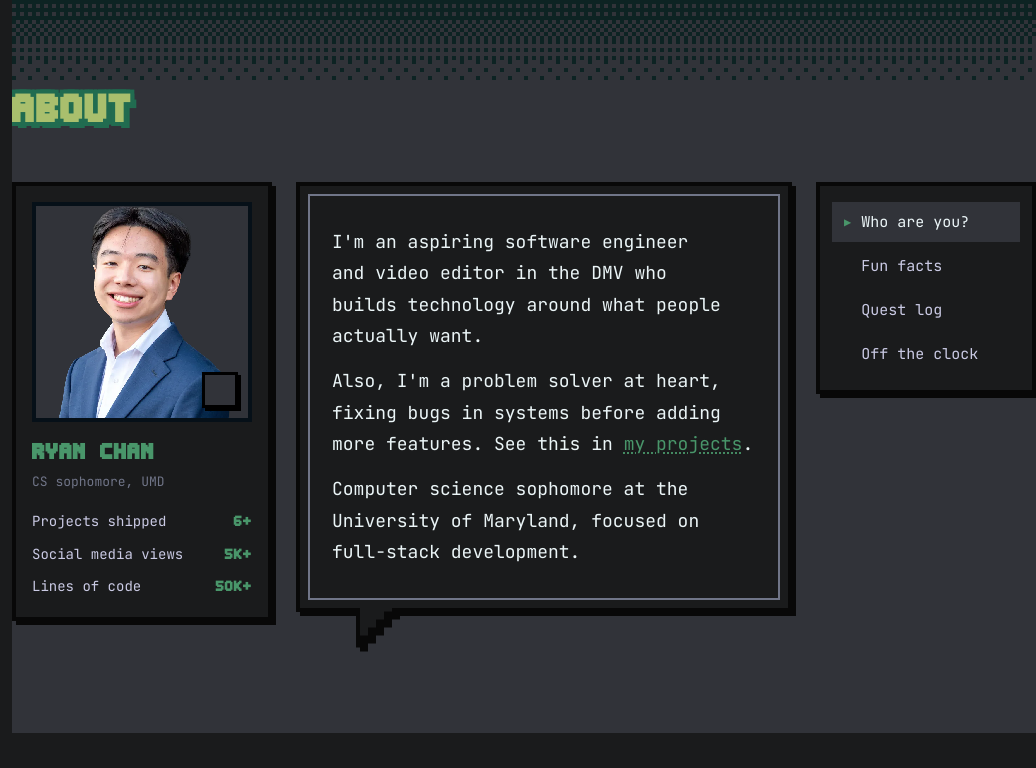
it: About fun facts › opens one popover at a time
Click the button "Fun facts" at (926, 266), box left=832, top=246, right=1020, bottom=286
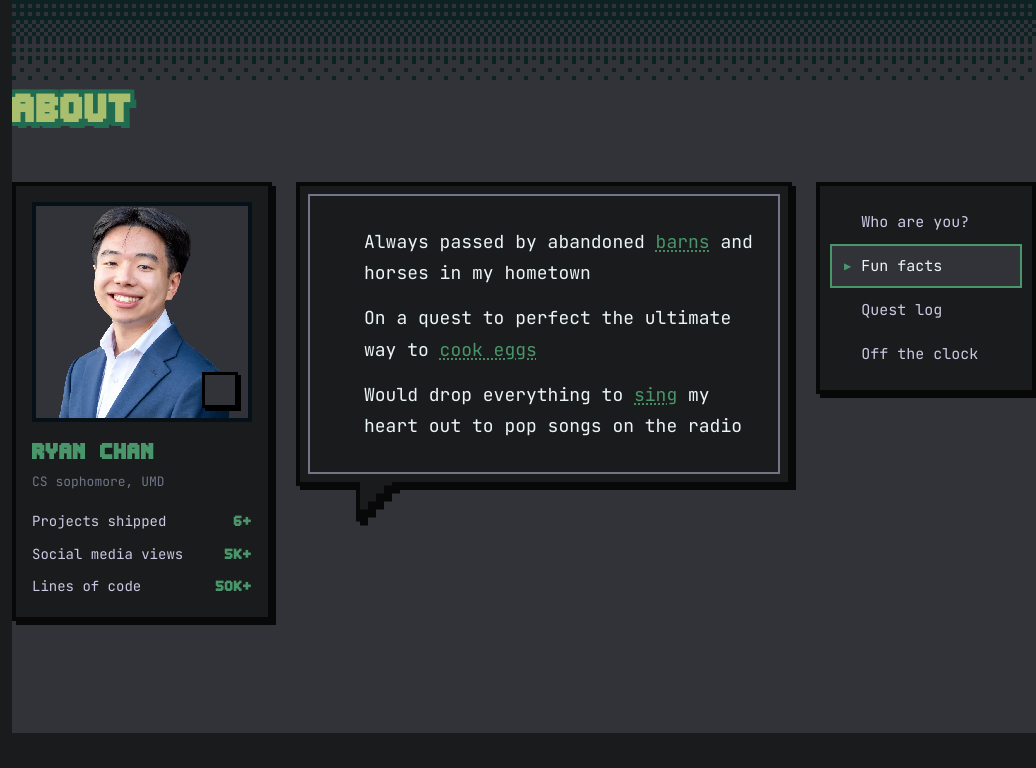
Click the button "barns" at (683, 241), box left=656, top=226, right=710, bottom=257
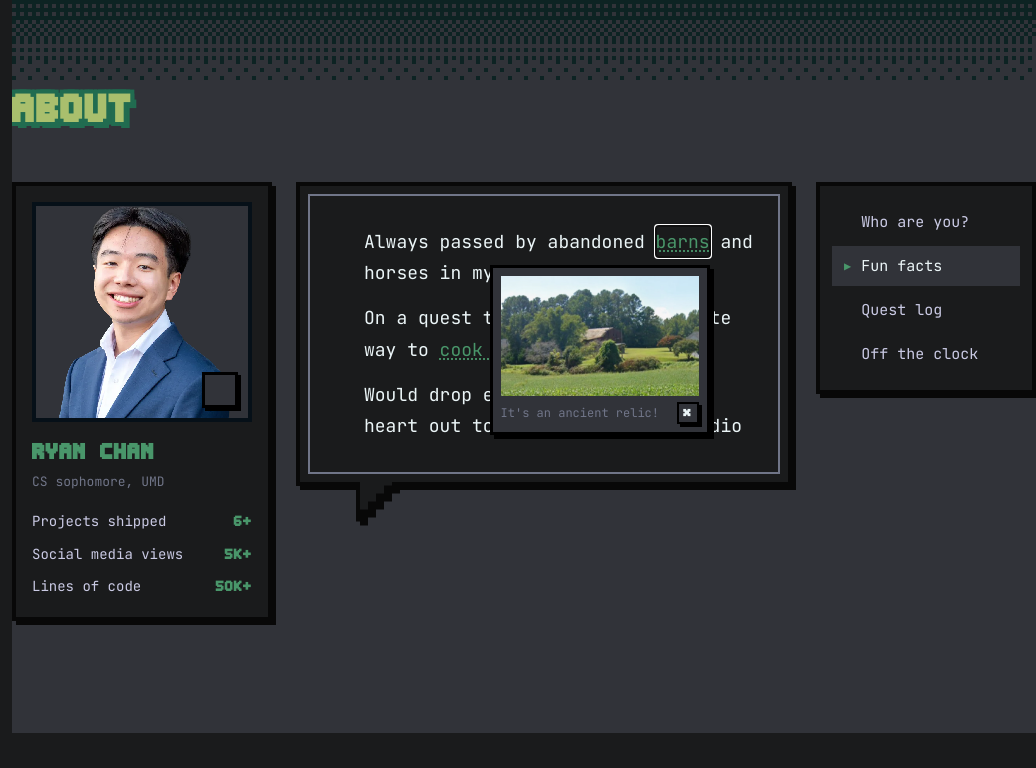
Expected: the text "It's an ancient relic!" is shown, left=501, top=403, right=669, bottom=424
Click the button "cook eggs" at (488, 349), box left=440, top=334, right=537, bottom=365
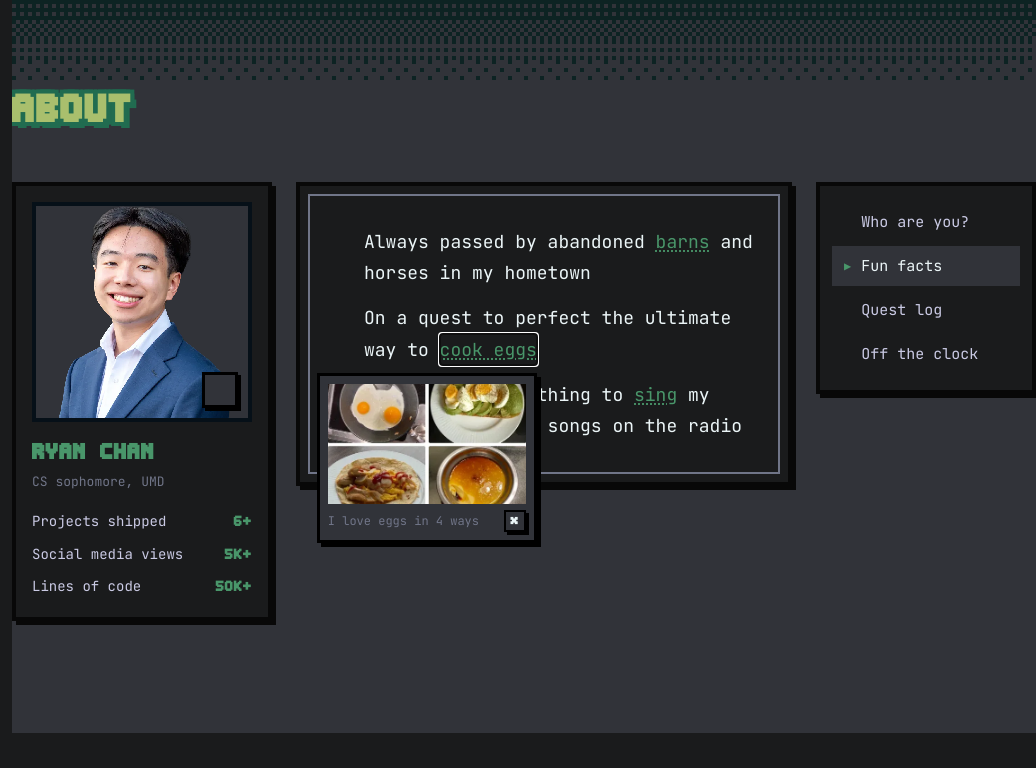
Expected: the text "It's an ancient relic!" is gone
Expected: the text "I love eggs in 4 ways" is shown, left=328, top=511, right=496, bottom=532
